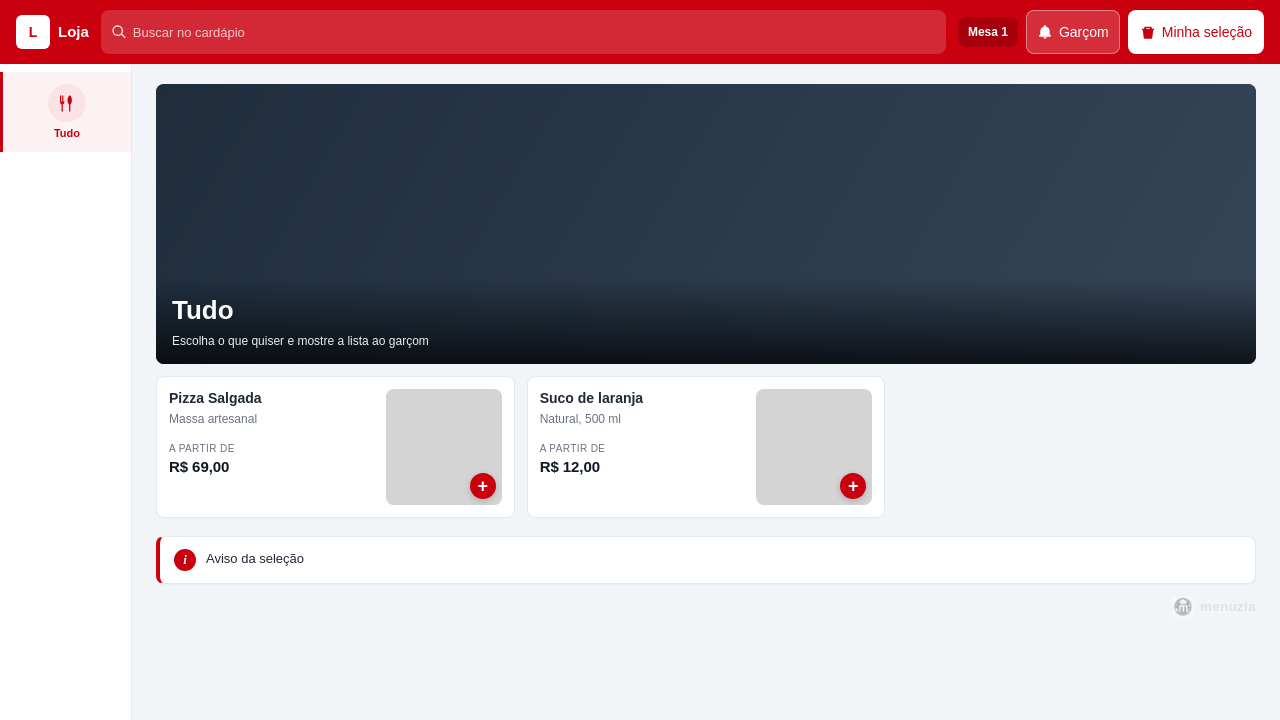
Test: cardápio da mesa — somente visualização › desligado: continua como antes (Minha seleção e configurador)
The image size is (1280, 720).
Expected: the text "Minha seleção" is shown, x1=1162 y1=22 x2=1252 y2=42
Click the button with aria-label "Escolher Pizza Salgada" at {"x": 215, "y": 398}, box x1=156 y1=376 x2=515 y2=518
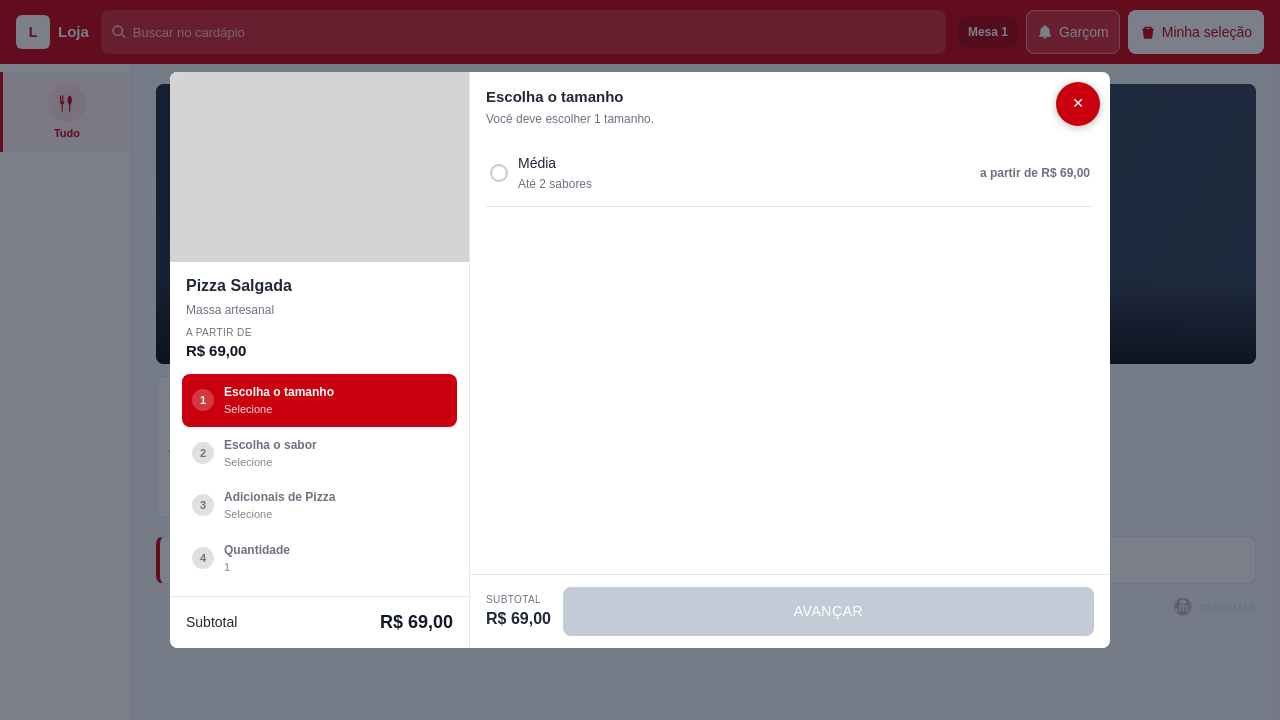
Expected: the text "Escolha o tamanho" is shown, x1=224 y1=383 x2=334 y2=401
